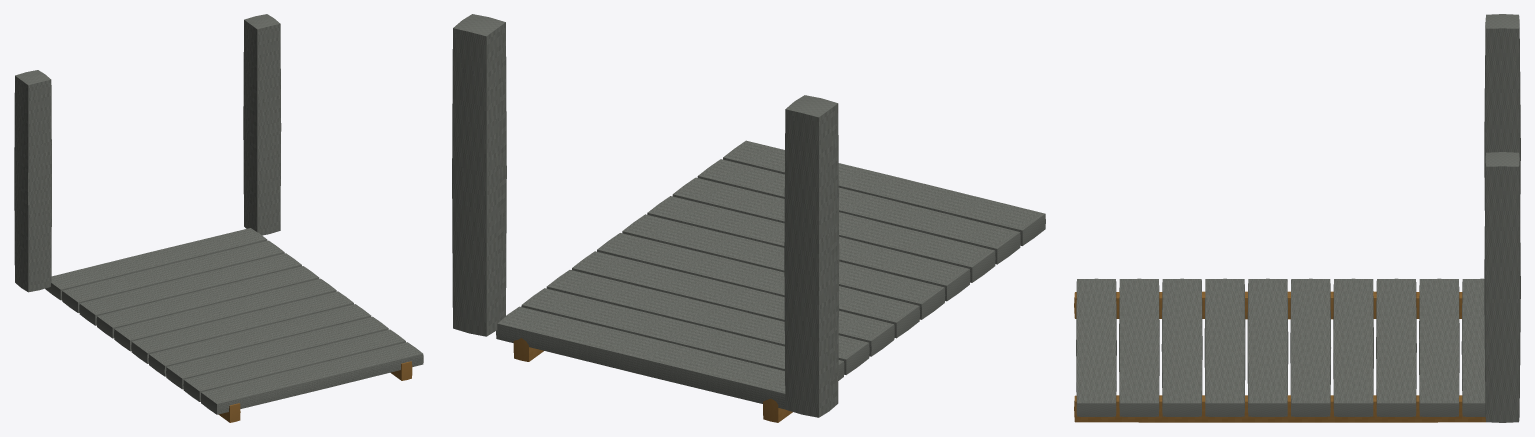
The picture shows the model from 3 angles, left to right: view 1: azimuth 30°, elevation 25°; view 2: azimuth 150°, elevation 25°; view 3: azimuth 270°, elevation 25°; orthographic projection. The views are drawn at different scales.
Visible parts, largest first — view 1: stone.0, stone.1, stone.11, stone.5, stone.6, stone.7, stone.8, stone.10, stone.3, stone.4, stone.9, stone.2; view 2: stone.0, stone.1, stone.2, stone.11, stone.4, stone.5, stone.10, stone.9, stone.6, stone.8, stone.7, stone.3; view 3: stone.1, stone.11, stone.4, stone.5, stone.10, stone.3, stone.7, stone.8, stone.9, stone.6, stone.0, brass.13 (+2 smaller).
Boxes of the visible parts, x1=… form: stone.0: x1=14, y1=70, x2=51, y2=292; stone.1: x1=243, y1=14, x2=281, y2=235; stone.11: x1=201, y1=342, x2=423, y2=414; stone.5: x1=96, y1=266, x2=319, y2=338; stone.6: x1=114, y1=278, x2=336, y2=351; stone.7: x1=131, y1=291, x2=353, y2=363; stone.8: x1=148, y1=304, x2=371, y2=376; stone.10: x1=183, y1=329, x2=405, y2=401; stone.3: x1=62, y1=240, x2=284, y2=312; stone.4: x1=79, y1=253, x2=301, y2=325; stone.9: x1=166, y1=316, x2=388, y2=389; stone.2: x1=45, y1=228, x2=267, y2=300; stone.0: x1=784, y1=95, x2=839, y2=417; stone.1: x1=452, y1=14, x2=506, y2=336; stone.2: x1=496, y1=306, x2=785, y2=409; stone.11: x1=723, y1=140, x2=1045, y2=245; stone.4: x1=546, y1=270, x2=869, y2=374; stone.5: x1=572, y1=251, x2=894, y2=356; stone.10: x1=697, y1=159, x2=1020, y2=264; stone.9: x1=672, y1=177, x2=995, y2=282; stone.6: x1=597, y1=233, x2=919, y2=338; stone.8: x1=647, y1=196, x2=970, y2=301; stone.7: x1=622, y1=214, x2=945, y2=319; stone.3: x1=521, y1=288, x2=844, y2=380; stone.1: x1=1484, y1=152, x2=1520, y2=422; stone.11: x1=1076, y1=278, x2=1116, y2=416; stone.4: x1=1376, y1=278, x2=1416, y2=416; stone.5: x1=1333, y1=278, x2=1373, y2=416; stone.10: x1=1119, y1=278, x2=1159, y2=416; stone.3: x1=1419, y1=278, x2=1459, y2=416; stone.7: x1=1247, y1=278, x2=1288, y2=416; stone.8: x1=1204, y1=278, x2=1245, y2=416; stone.9: x1=1161, y1=278, x2=1202, y2=416; stone.6: x1=1290, y1=278, x2=1330, y2=416; stone.0: x1=1484, y1=14, x2=1520, y2=210; brass.13: x1=1074, y1=395, x2=1485, y2=422.
Bounding box in the file's own units: 1.78 × 1.51 × 2.19.
2 materials, 2 textured.
